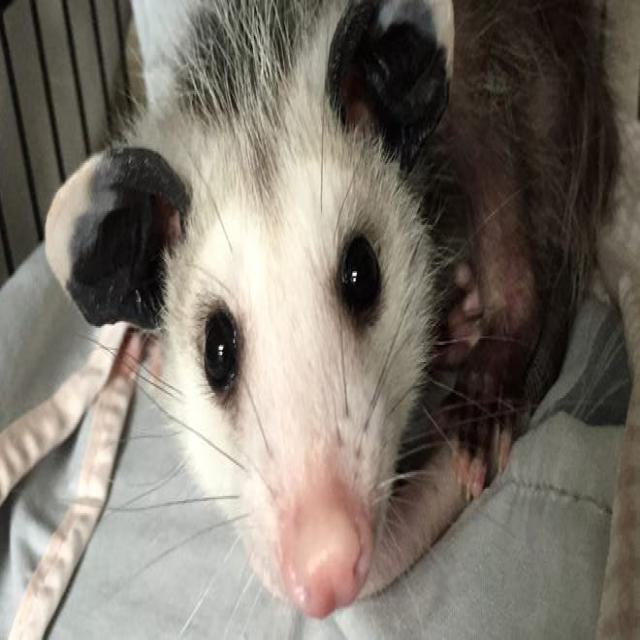Possum: (42, 0, 441, 617)
